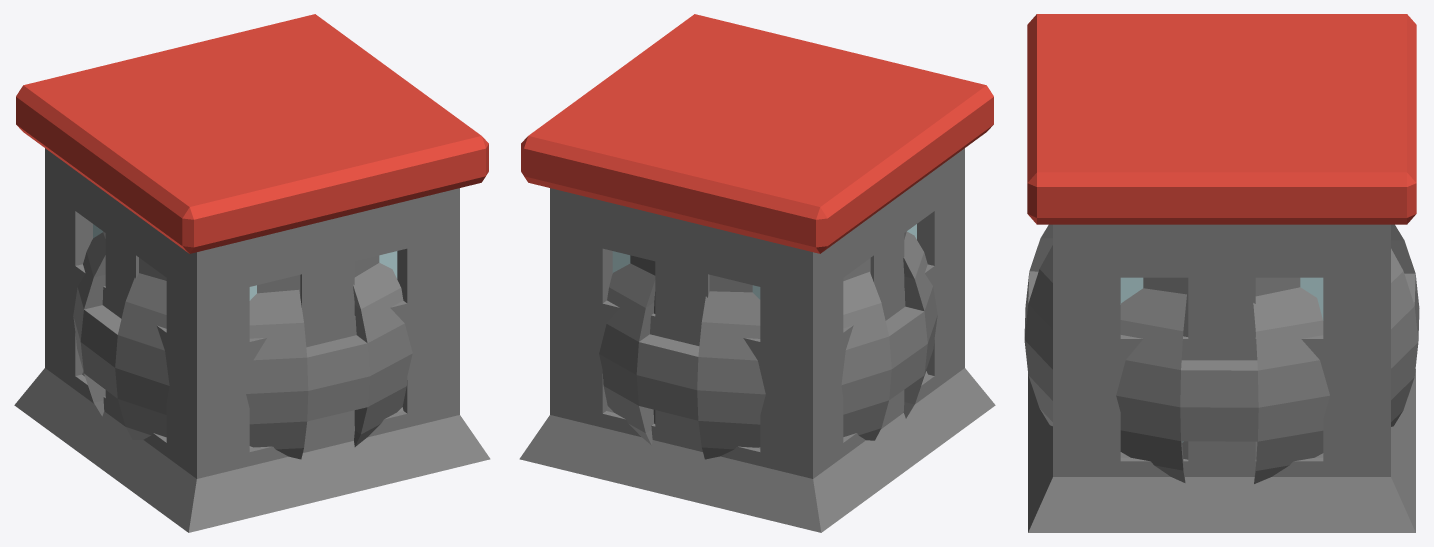
File: building01.glb
3 views of the same model, side by side, from view 1: azimuth 30°, elevation 25°; view 2: azimuth 150°, elevation 25°; view 3: azimuth 270°, elevation 25° (orthographic). The views are drawn at different scales.
Visible parts, largest first — view 1: square_building, sphere_building, pyramid_building, cylinder_building; view 2: square_building, sphere_building, pyramid_building, cylinder_building; view 3: square_building, sphere_building, pyramid_building, cylinder_building.
Part boxes in pixels (box(x1,y1,x2,y2)): square_building: box(16, 14, 488, 478); sphere_building: box(73, 232, 412, 459); pyramid_building: box(14, 368, 490, 532); cylinder_building: box(103, 231, 379, 295); square_building: box(521, 14, 993, 478); sphere_building: box(599, 231, 937, 459); pyramid_building: box(519, 368, 995, 532); cylinder_building: box(630, 231, 906, 423); square_building: box(1027, 14, 1416, 476); sphere_building: box(1024, 224, 1419, 483); pyramid_building: box(1028, 369, 1415, 532); cylinder_building: box(1143, 277, 1300, 459).
Bounding box in the file's own units: 7.76 × 7.8 × 7.76.
